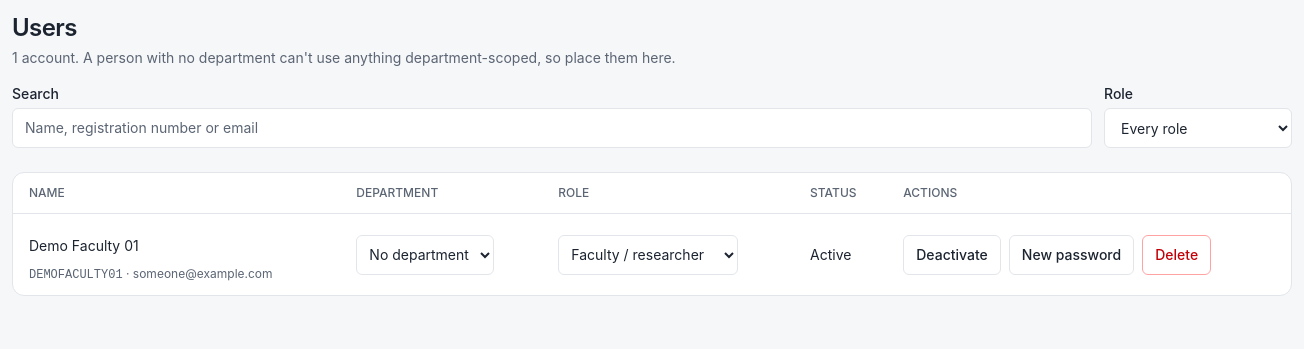
Test: AdminUsersPage › surfaces the reason the API refused
Select "Agriculture" in the dropdown named "department for" at (425, 254), box x1=356 y1=234 x2=494 y2=274
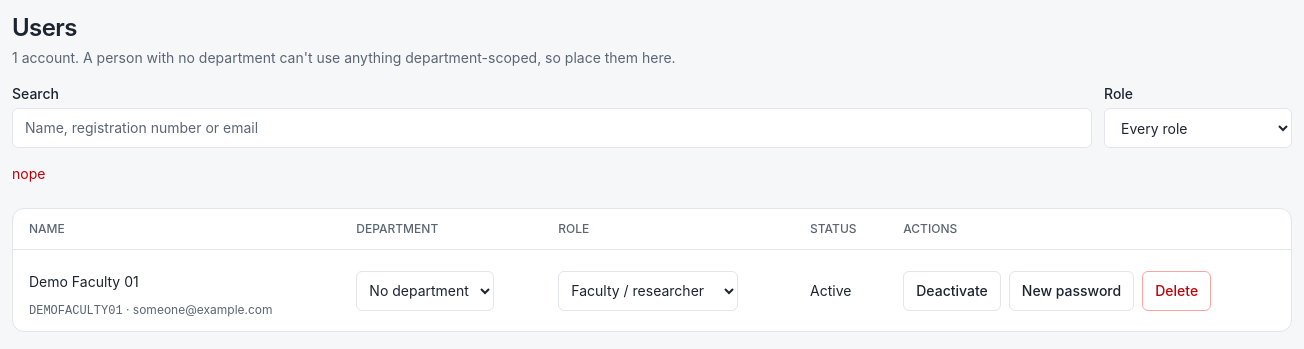
expect the message "nope" is shown: met, box x1=12 y1=165 x2=45 y2=182
